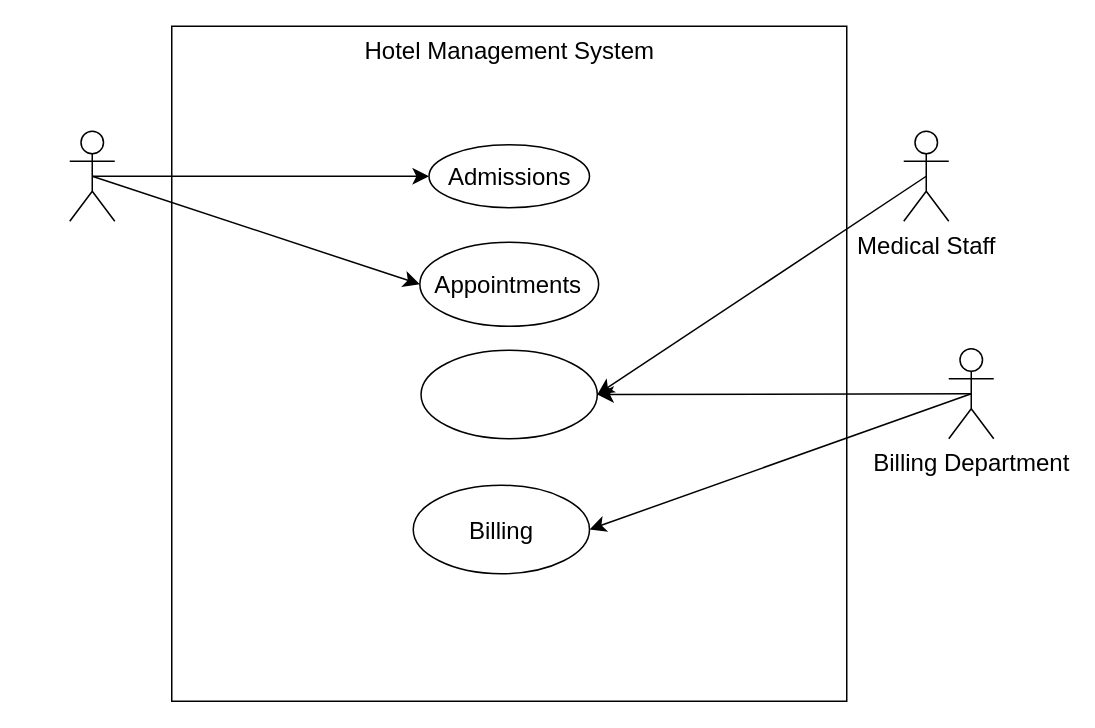
Image size: 1095x728. Some labels were removed from this diagram. Each missing label, with the centre of its shape:
"Medical Records" goes at point (508, 394).
"Receptionist" goes at point (91, 175).
